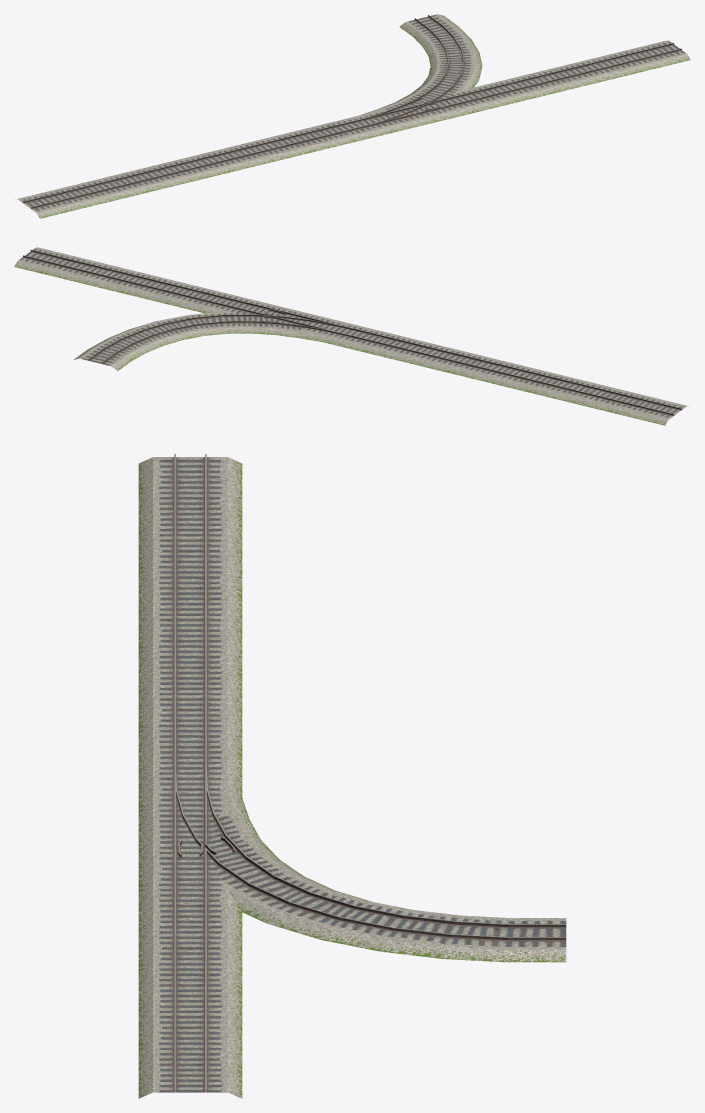
File: Tr_FPoints2Flip.fbx
The picture shows the model from 3 angles, top to bottom: view 1: azimuth 30°, elevation 25°; view 2: azimuth 150°, elevation 25°; view 3: azimuth 270°, elevation 25°; orthographic projection. The views are drawn at different scales.
Parts seen in each view (by area): view 1: U3DMesh; view 2: U3DMesh; view 3: U3DMesh.
Part boxes in pixels (x1=…): U3DMesh: x1=17, y1=14, x2=690, y2=218; U3DMesh: x1=14, y1=247, x2=688, y2=425; U3DMesh: x1=138, y1=454, x2=566, y2=1098.
Bounding box in the file's own units: 64 × 0.4497 × 18.21.
